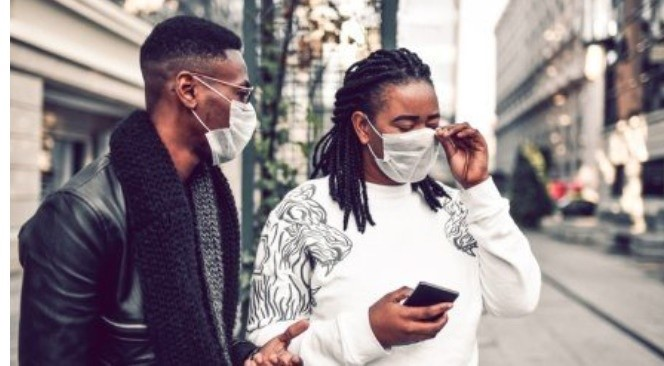face_with_mask: (140, 17, 258, 169), (331, 50, 438, 183)
